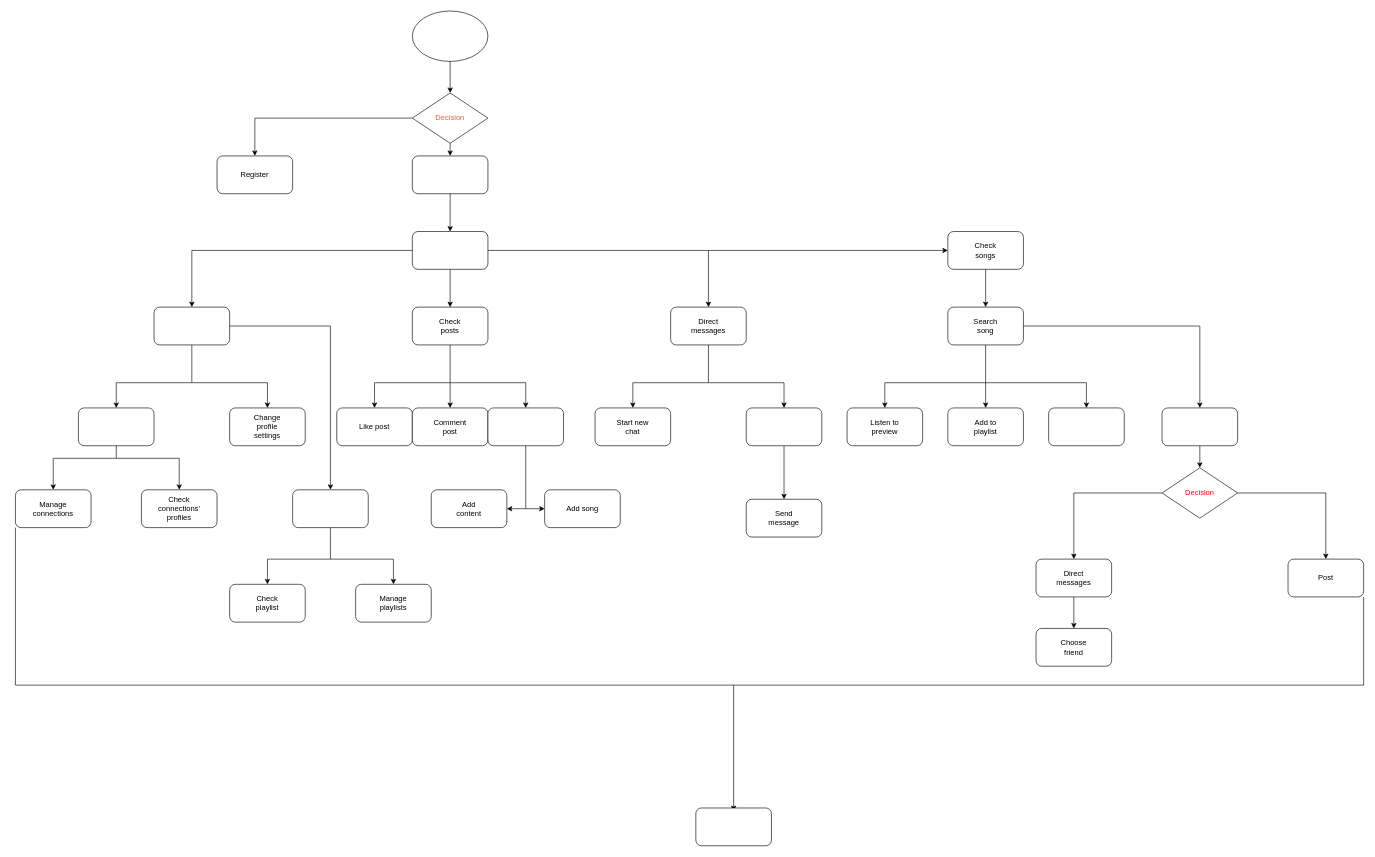
This 1375x857 diagram has some shape labels left out. The centre of each missing label's shape, as x and y in pixels:
"Add post" belongs at (x=525, y=426).
"Add rating" belongs at (x=1086, y=426).
"Back to feed" belongs at (x=733, y=826).
"Connections" belongs at (x=116, y=426).
"Enter Feed page" belongs at (x=450, y=250).
"Enter private conversation" belongs at (x=784, y=426).
"Log in" belongs at (x=450, y=174).
"Open Application" belongs at (x=450, y=35).
"Personal profile" belongs at (x=191, y=325).
"Playlists" belongs at (x=330, y=508).
"Share" belongs at (x=1199, y=426).
